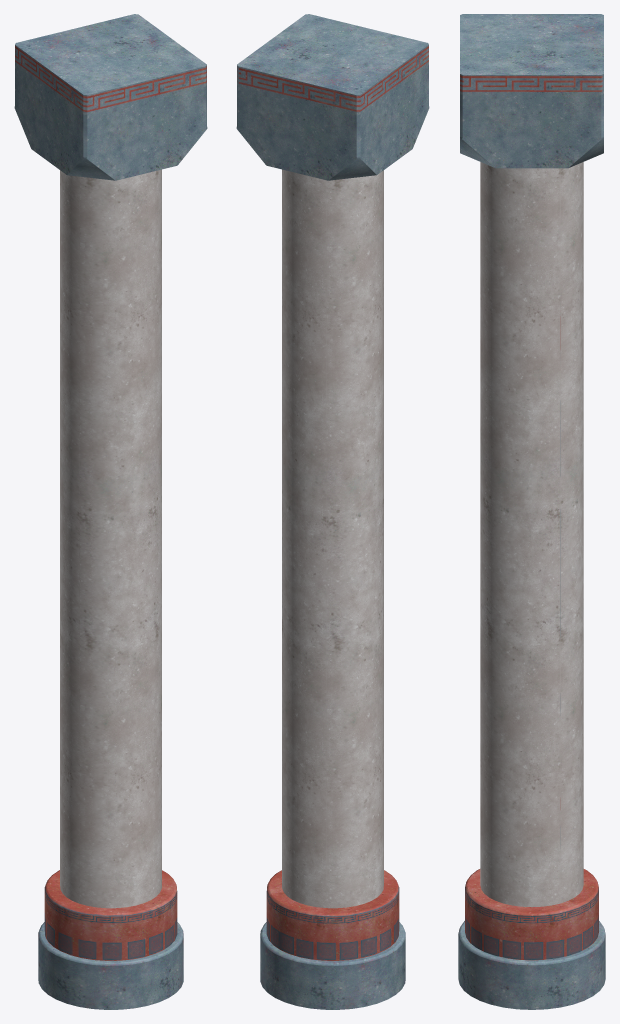
File: colonna.fbx
3 renders of one model, left to right at view 1: azimuth 30°, elevation 25°; view 2: azimuth 150°, elevation 25°; view 3: azimuth 270°, elevation 25°, orthographic.
Parts seen in each view (by area): view 1: Object_2; view 2: Object_2; view 3: Object_2.
Part boxes in pixels (<box>): Object_2: <box>14,14,207,1009</box>; Object_2: <box>236,14,429,1009</box>; Object_2: <box>458,14,605,1009</box>.
Bounding box in the file's own units: 7150 × 50000 × 7150.
Materials: 1 (1 with a texture image).
